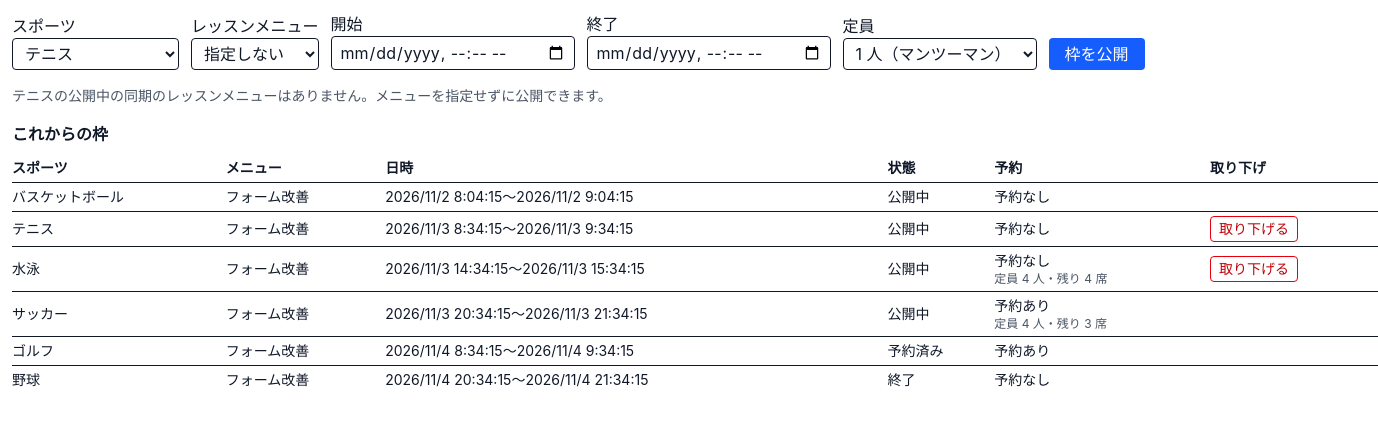
Test: 自分の枠の取り下げ › 確定したらその枠を送り、行の状態を「終了」にしてボタンを消す。メニューはそのまま
The width and height of the screenshot is (1378, 438).
Expected: the cell "公開中" in the row of "2026/11/3 8:34:15" is shown, [888,220,930,237]
Click the button "取り下げる" in the row of "2026/11/3 8:34:15". click: (1254, 229)
box: [1210,216,1298,242]
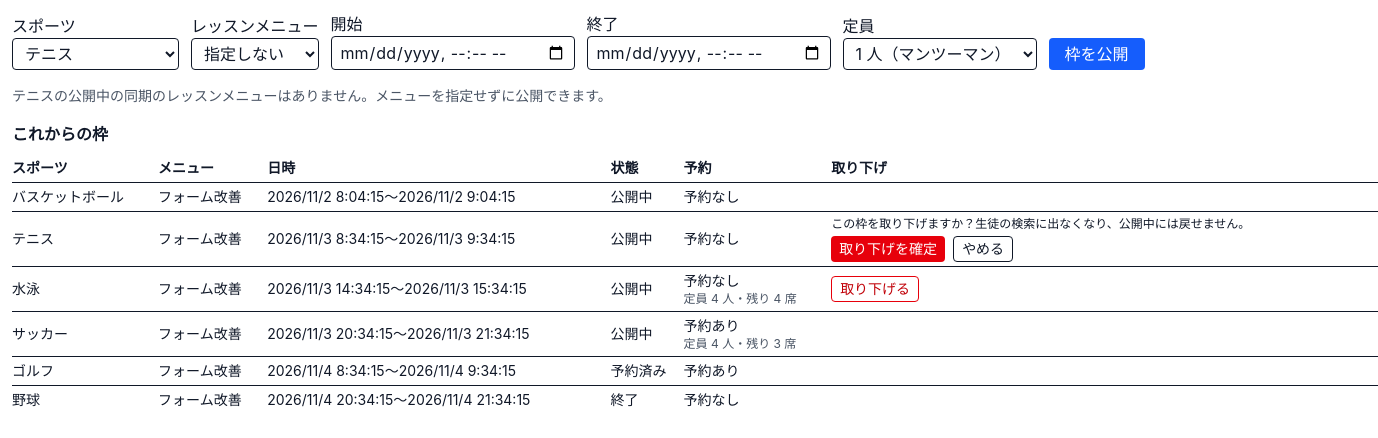
Click the button "取り下げを確定". click: (888, 249)
box: [831,236,945,262]
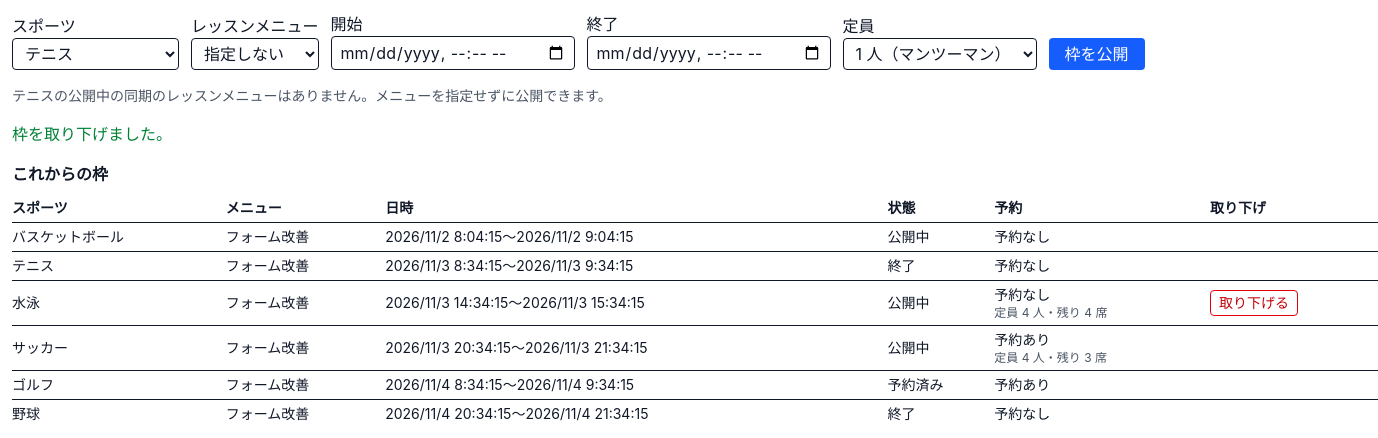
Expected: the cell "フォーム改善" next to "2026/11/3 8:34:15" is shown, [226,257,309,274]
Expected: the message reads "枠を取り下げました。", [12,124,172,144]
Expected: the cell "終了" in the row of "2026/11/3 8:34:15" is shown, [888,257,916,274]
